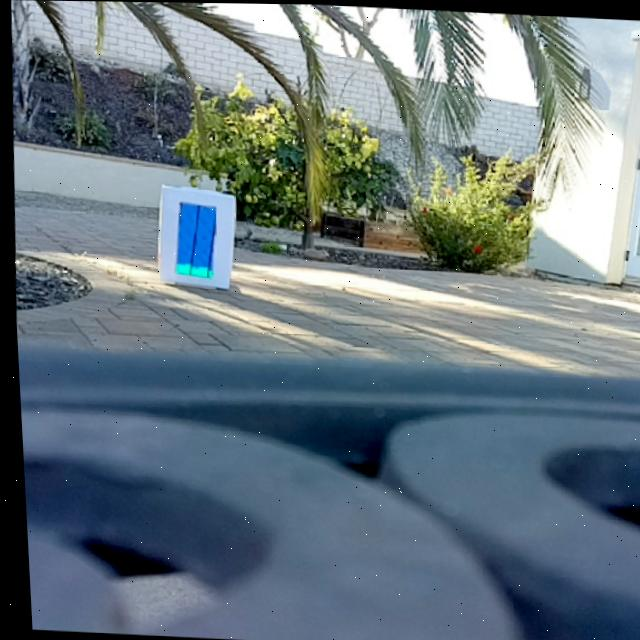led: (169, 199, 218, 280)
